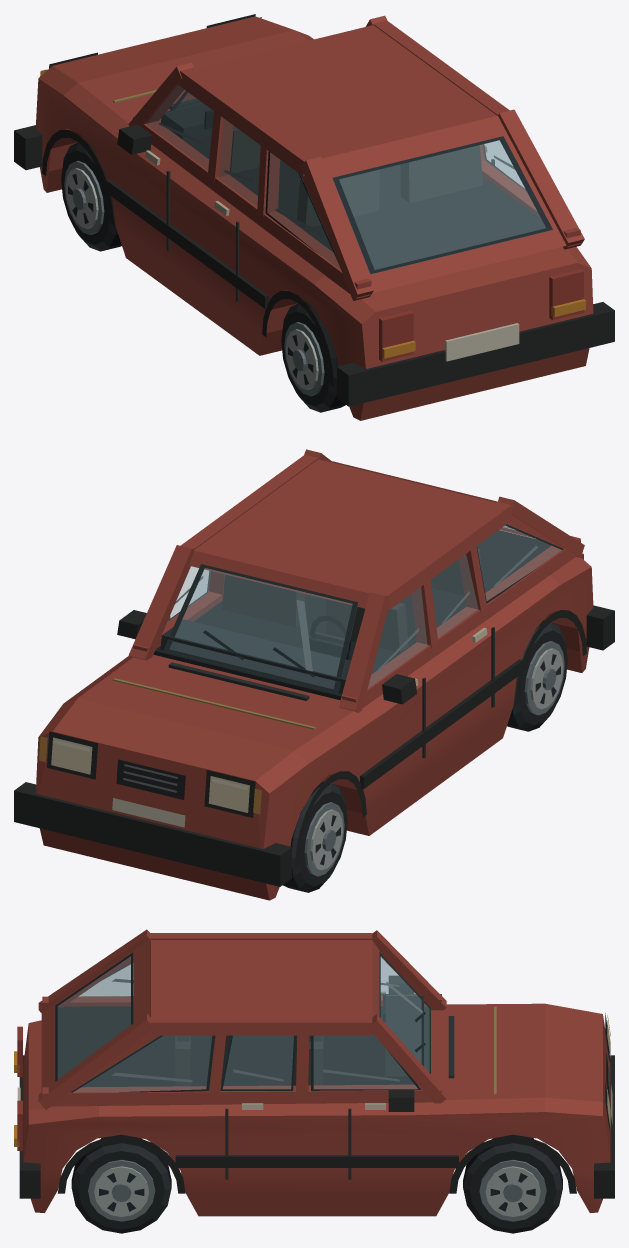
File: citadine_rouge_brique.glb
3 renders of one model, top to bottom at view 1: azimuth 30°, elevation 25°; view 2: azimuth 150°, elevation 25°; view 3: azimuth 270°, elevation 25°, orthographic. The views are drawn at different scales.
Parts seen in each view (by area): view 1: proposition_citadine_rouge_brique; view 2: proposition_citadine_rouge_brique; view 3: proposition_citadine_rouge_brique.
Boxes of the visible parts, x1,y1,x2,y2 form: proposition_citadine_rouge_brique: (14,14,614,420); proposition_citadine_rouge_brique: (14,449,614,900); proposition_citadine_rouge_brique: (14,929,614,1233).
Bounding box in the file's own units: 1.81 × 1.43 × 3.72.
